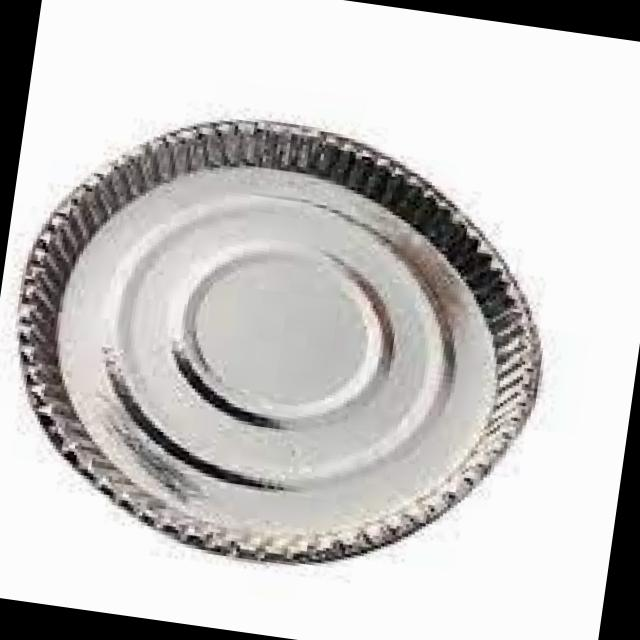kim_loai: (17, 120, 540, 565)
